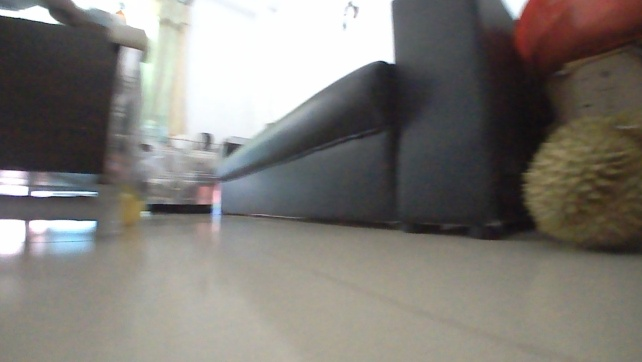sofa: (215, 0, 555, 240)
